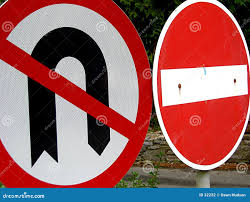No entry: (152, 1, 250, 171)
